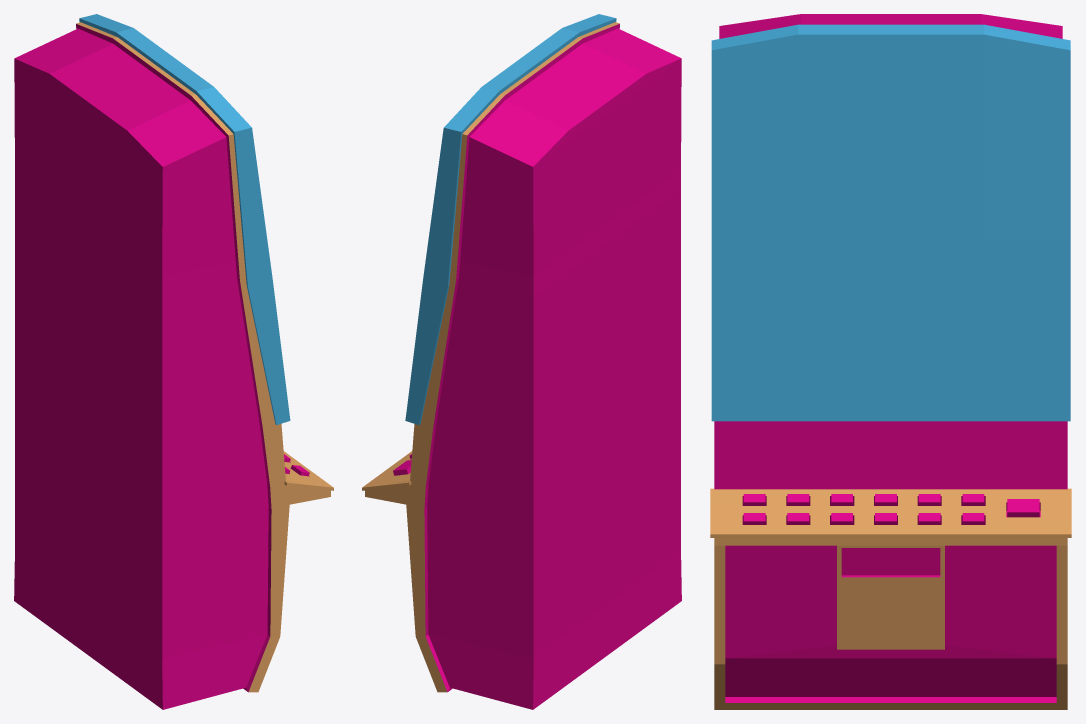
File: C_Machine_001.fbx
3 renders of one model, left to right at view 1: azimuth 30°, elevation 25°; view 2: azimuth 150°, elevation 25°; view 3: azimuth 270°, elevation 25°, orthographic. The views are drawn at different scales.
Parts seen in each view (by area): view 1: C_Machine_001; view 2: C_Machine_001; view 3: C_Machine_001.
Boxes of the visible parts, x1,y1,x2,y2 form: C_Machine_001: (14, 14, 333, 709); C_Machine_001: (362, 14, 681, 709); C_Machine_001: (710, 14, 1071, 709).
Bounding box in the file's own units: 56.75 × 188 × 92.
